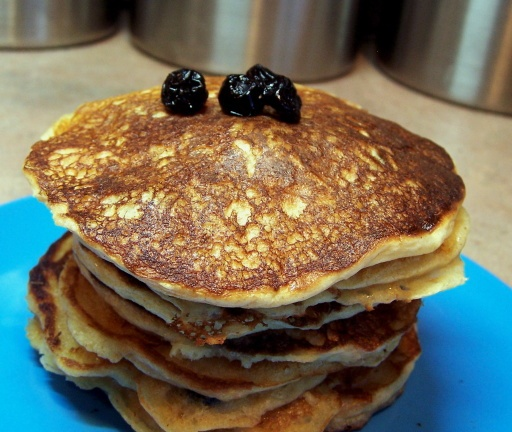background: (17, 43, 375, 291)
